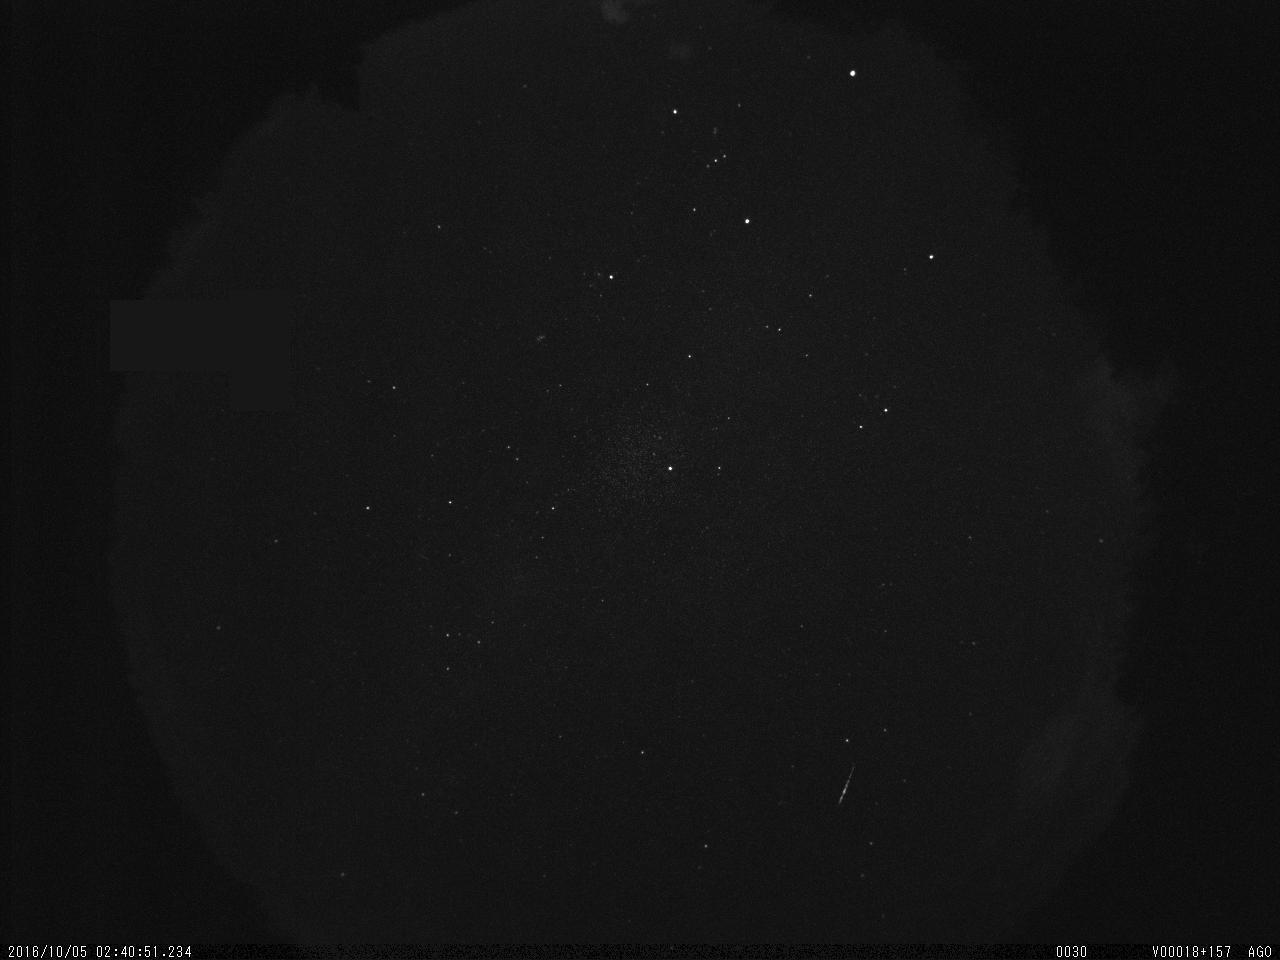meteor: (825, 758, 865, 815)
